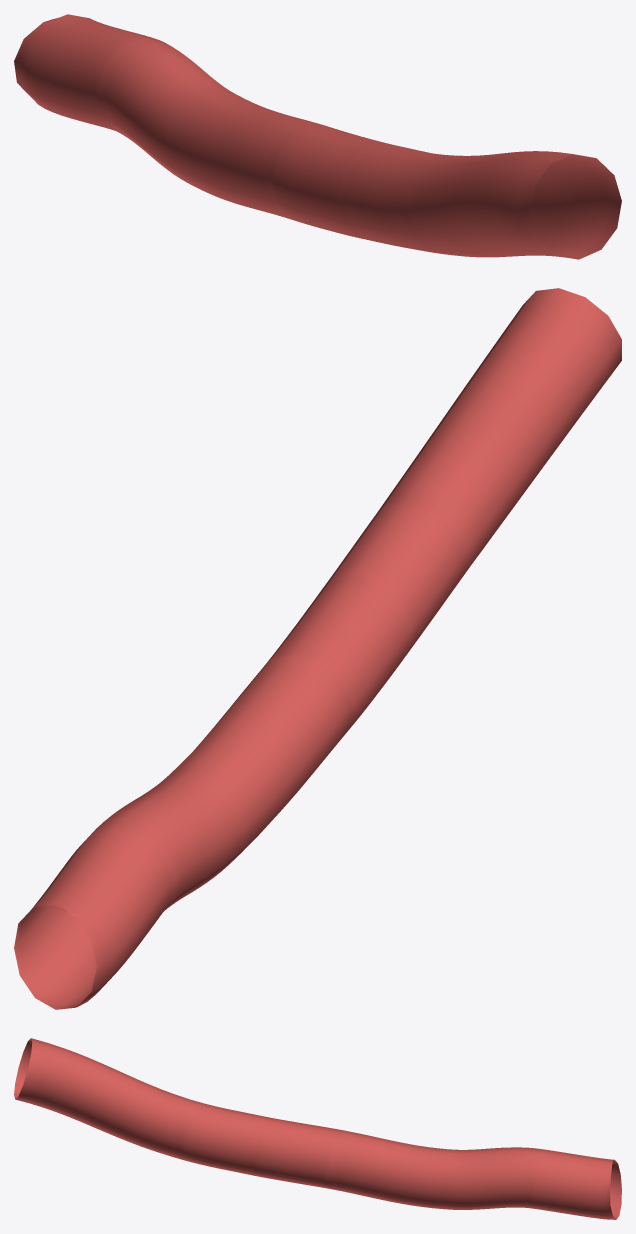
3 renders of one model, top to bottom at view 1: azimuth 30°, elevation 25°; view 2: azimuth 150°, elevation 25°; view 3: azimuth 270°, elevation 25°, orthographic. The views are drawn at different scales.
Visible parts, largest first — view 1: 腹主动脉; view 2: 腹主动脉; view 3: 腹主动脉.
Boxes of the visible parts, <box> form: 腹主动脉: <box>14,14,621,259</box>; 腹主动脉: <box>14,288,621,1009</box>; 腹主动脉: <box>14,1038,621,1219</box>.
Bounding box in the file's own units: 0.0337 × 0.0878 × 0.2681.
